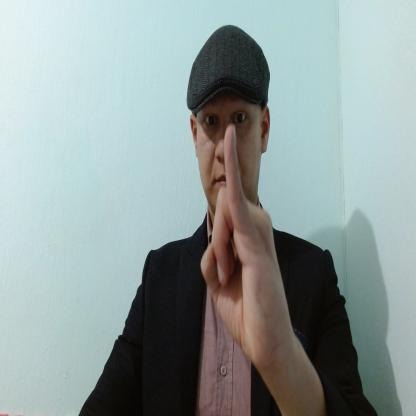I: (200, 122, 292, 364)
